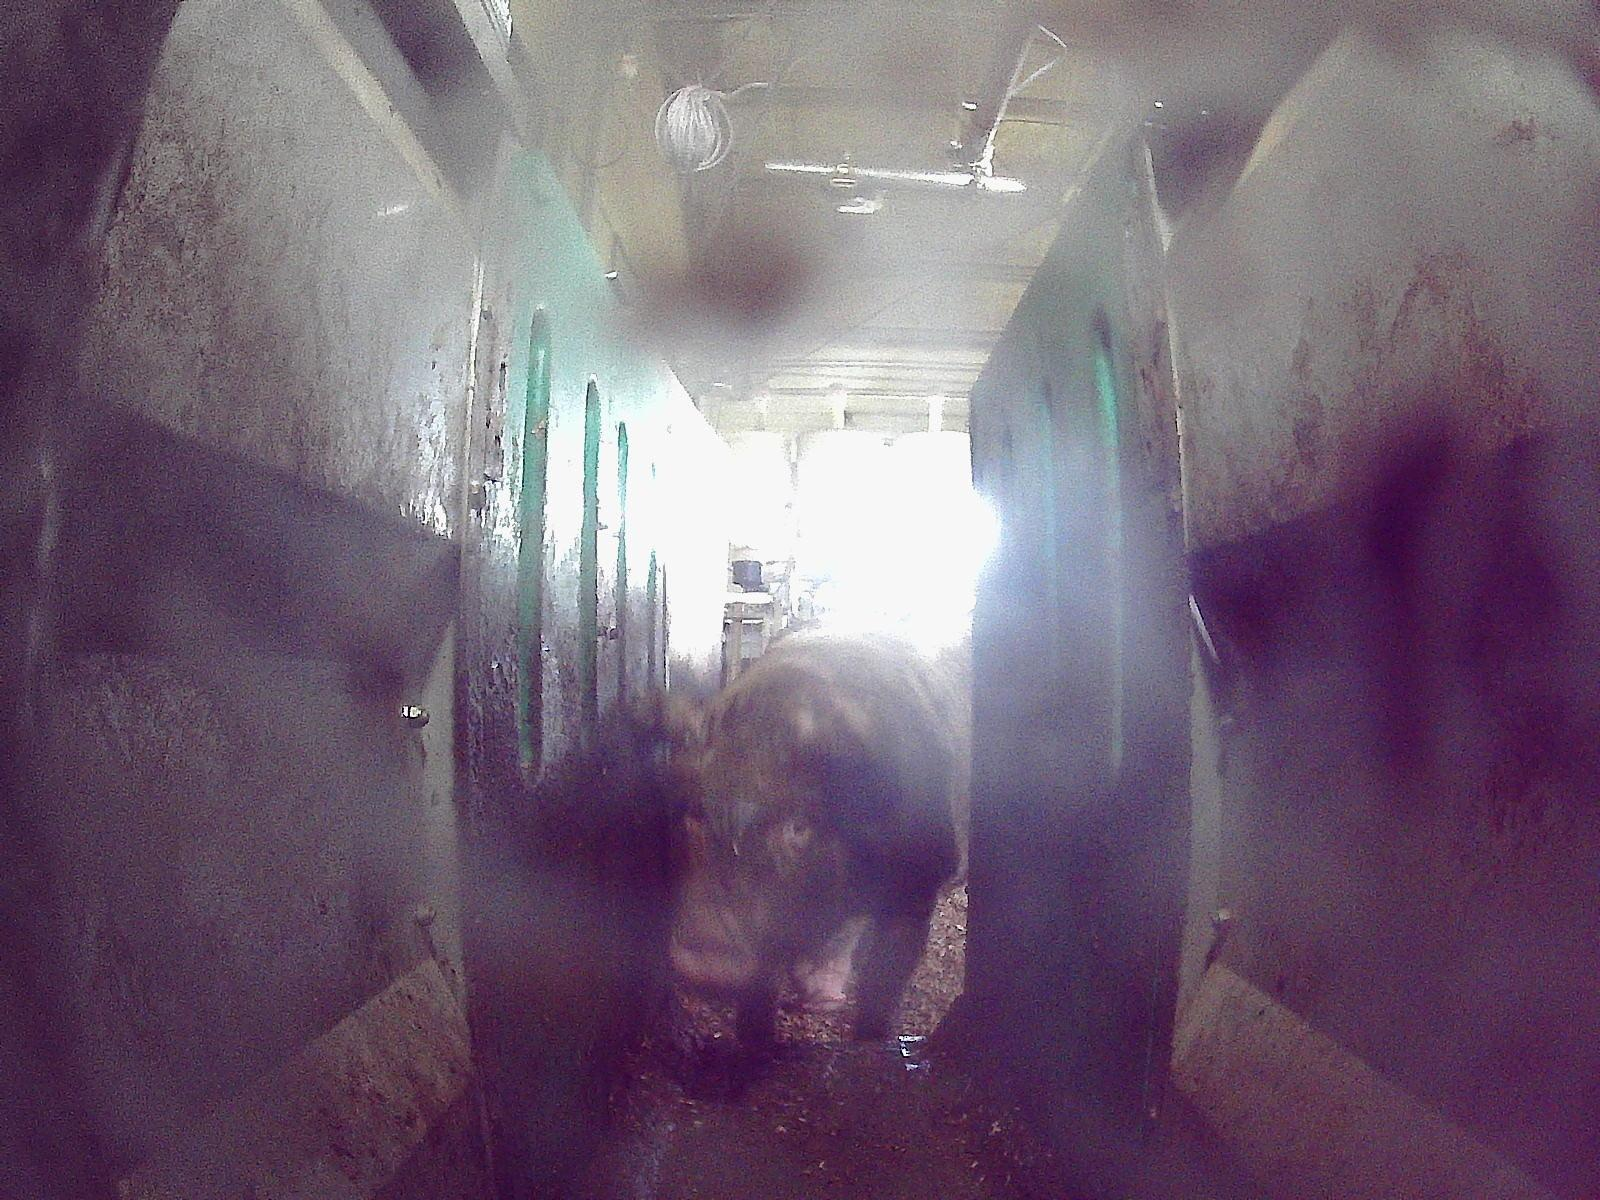Face: (671, 685, 844, 997)
